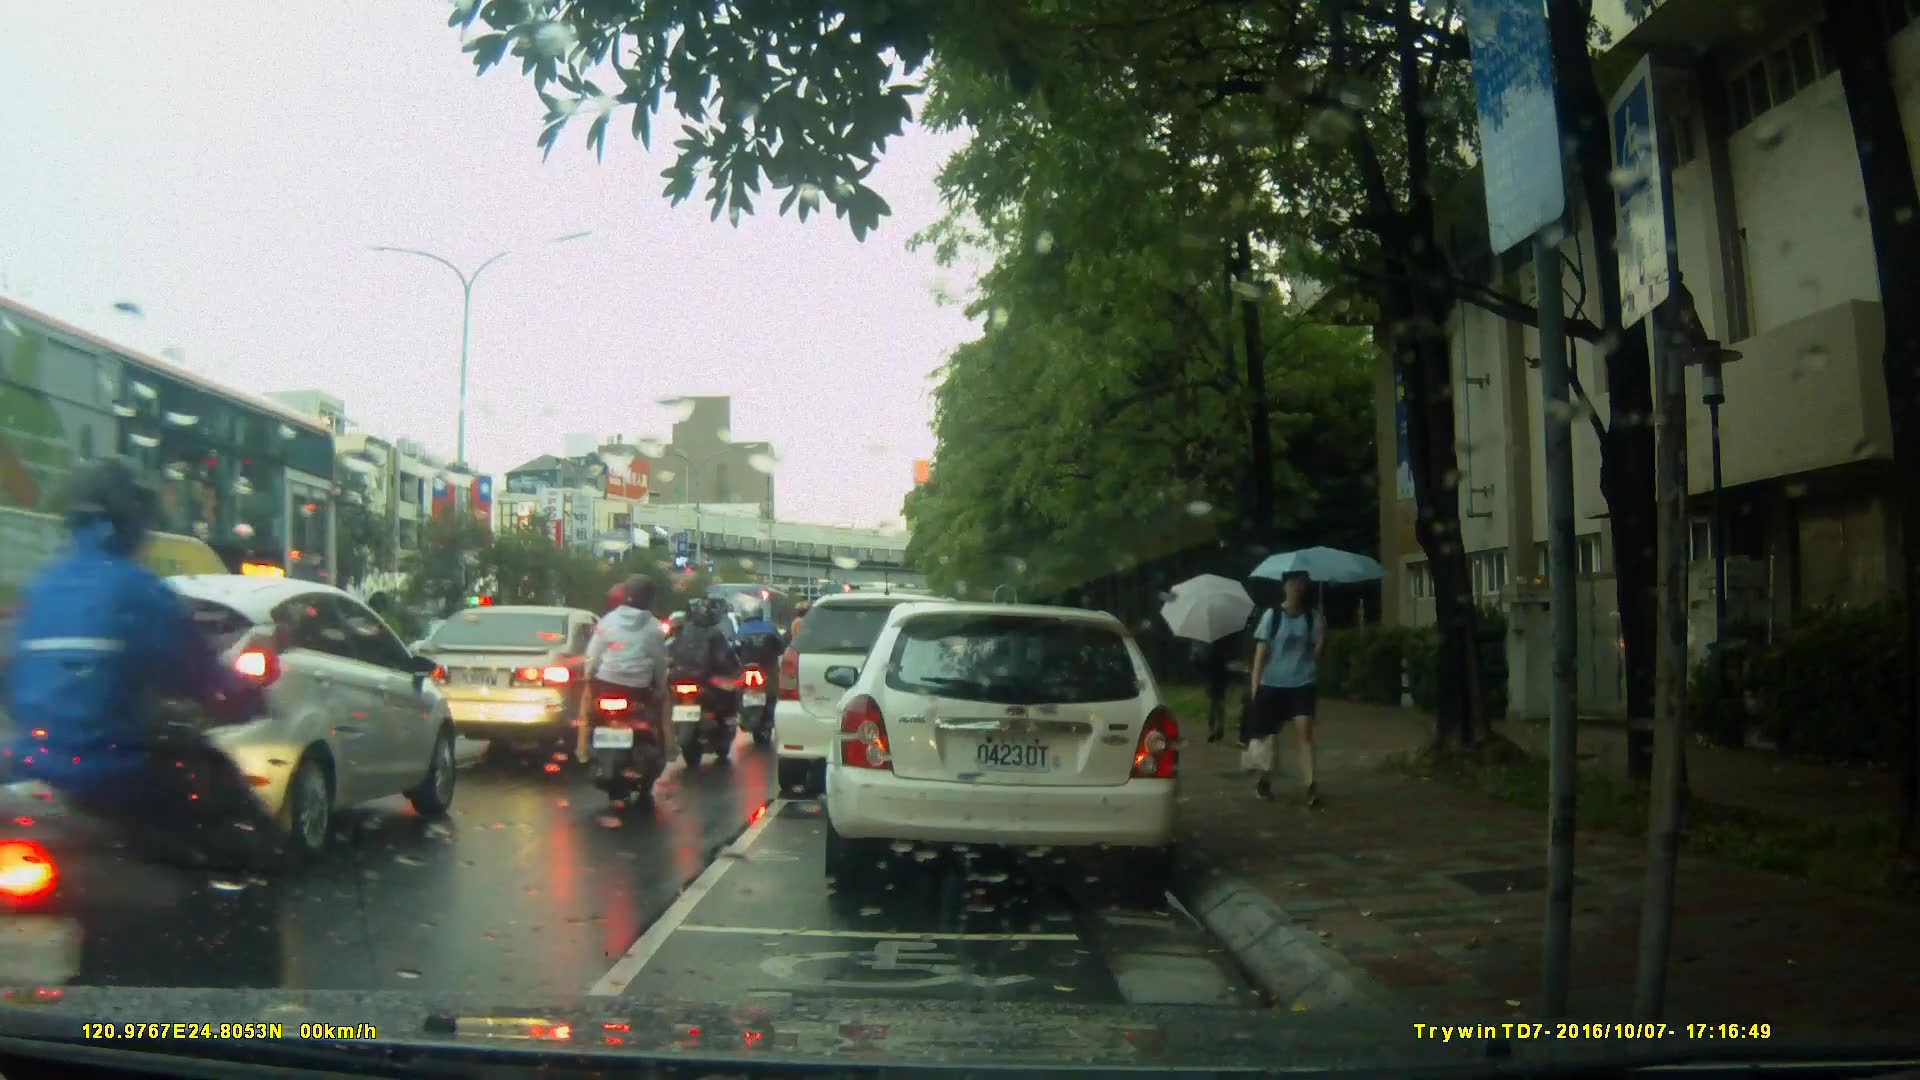pedestrian: (1234, 554, 1333, 815), (1200, 599, 1249, 740)
rider: (1, 462, 280, 1040), (577, 573, 679, 824), (670, 593, 731, 775), (728, 595, 787, 745), (788, 599, 824, 728)
vehicle: (1, 293, 347, 766), (27, 571, 460, 873), (835, 594, 1194, 898), (776, 590, 1026, 784), (385, 603, 643, 766), (603, 619, 728, 716), (706, 582, 808, 672)
